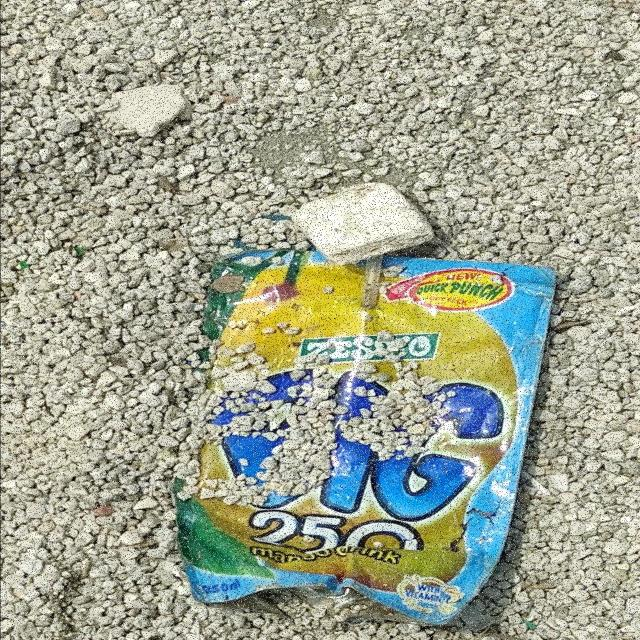plastic_waste: (172, 249, 560, 628)
styrofoam_waste: (287, 182, 436, 269)
